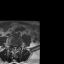CCS_normal: (14, 45, 16, 51)
LFS_severe_stenosis: (17, 44, 19, 48)
LLS_stenosis: (16, 45, 17, 49)
RFS_severe_stenosis: (12, 44, 13, 48)
RLS_severe_stenosis: (13, 45, 14, 49)
